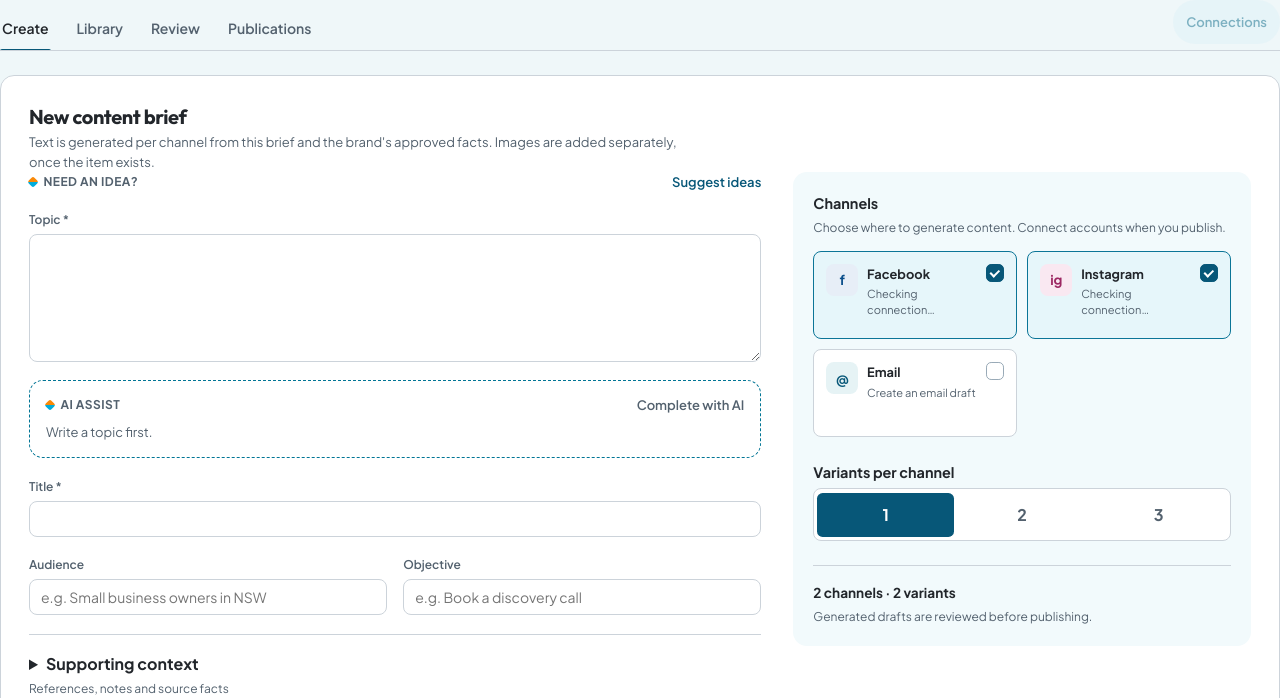
Test case: ContentStudioView › opens the new item after creating it
Type "Spring workshop" into the field labelled "Title *" at (395, 519), box left=29, top=501, right=761, bottom=537
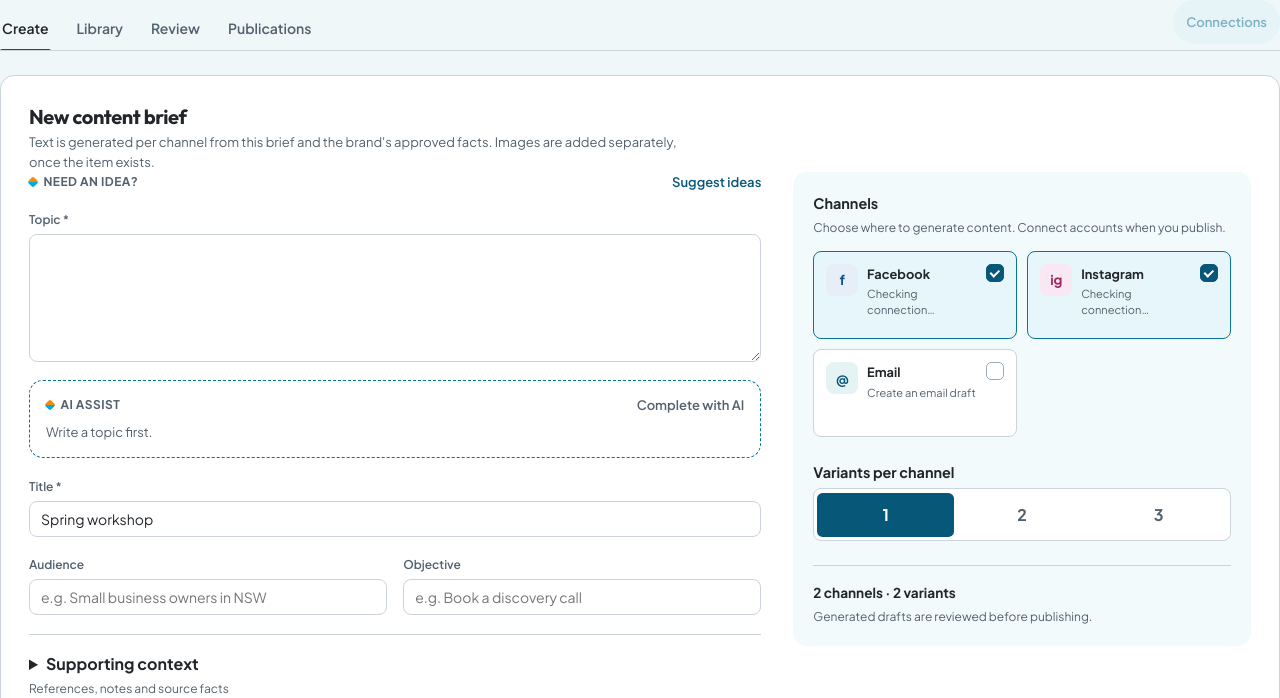
Type "Spring" into the text box labelled "Topic *" at (395, 298), box left=29, top=234, right=761, bottom=362
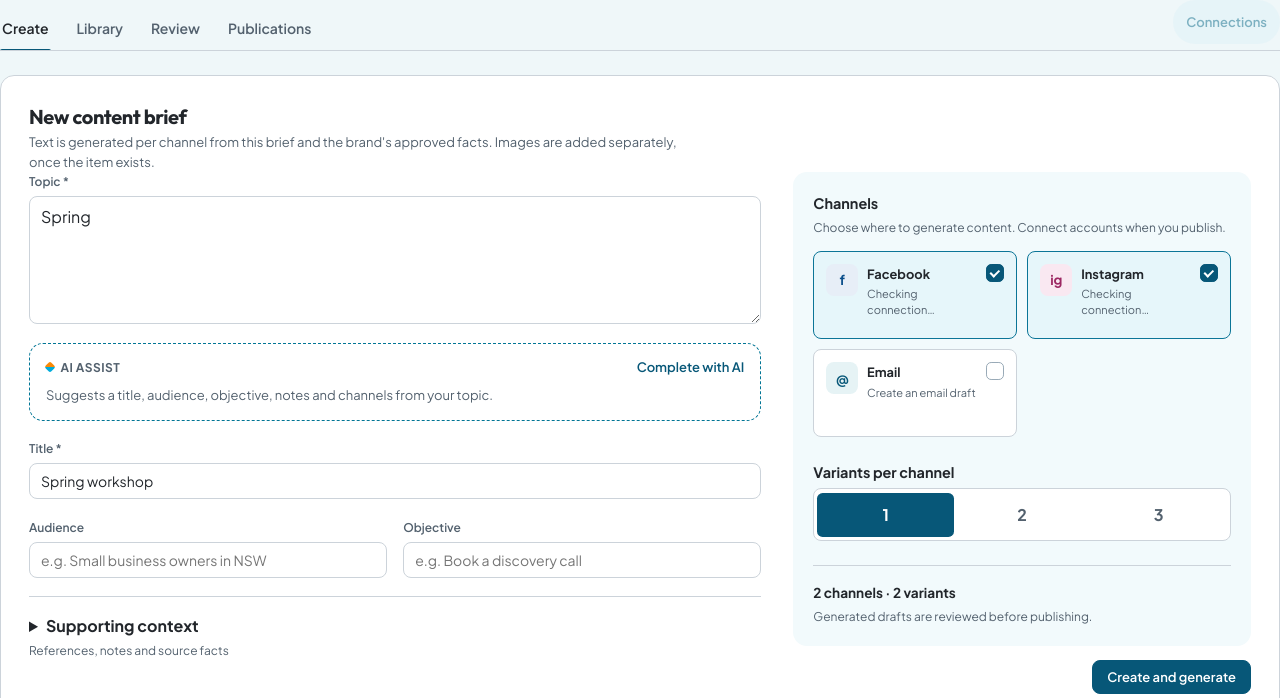
Click the button "Create and generate" at (1172, 677), box left=1092, top=660, right=1251, bottom=694
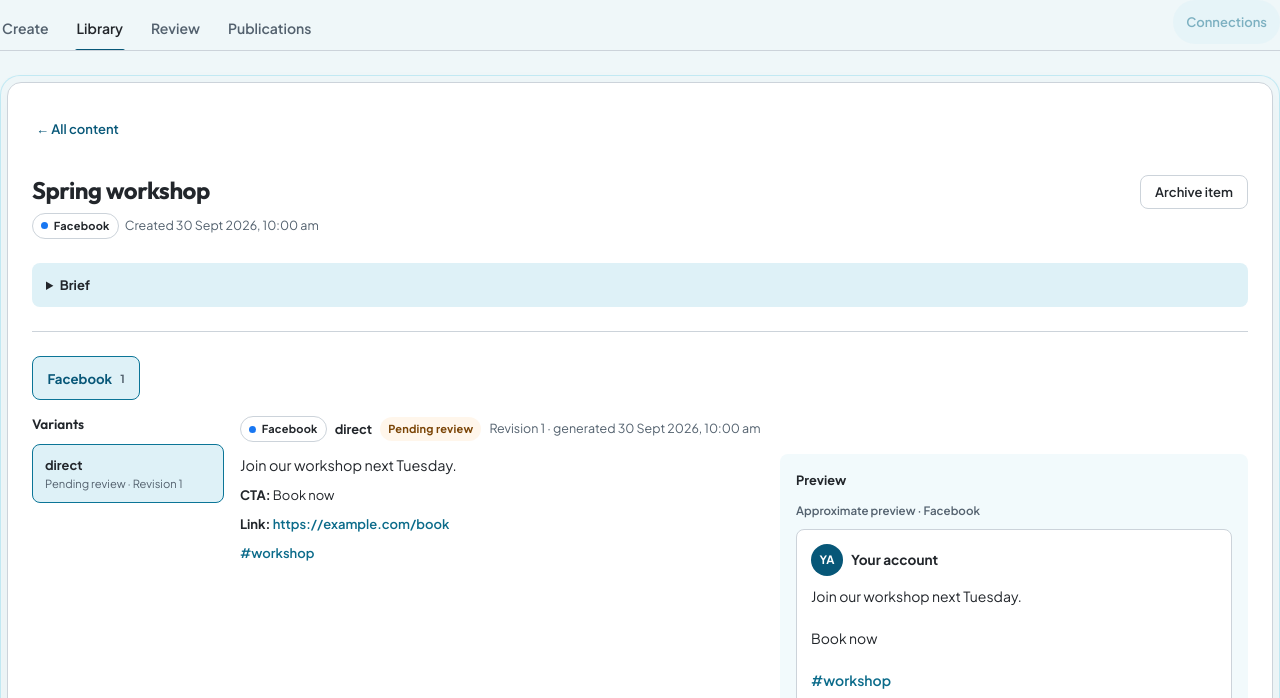
Check: the heading "Spring workshop" is shown, box left=32, top=175, right=210, bottom=205
